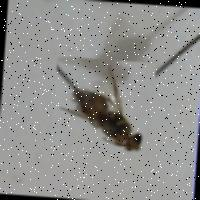Oriental-fruit-fly: (49, 54, 155, 161)
